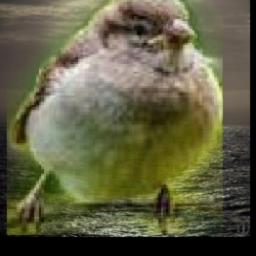Sparrow: (8, 0, 224, 235)
